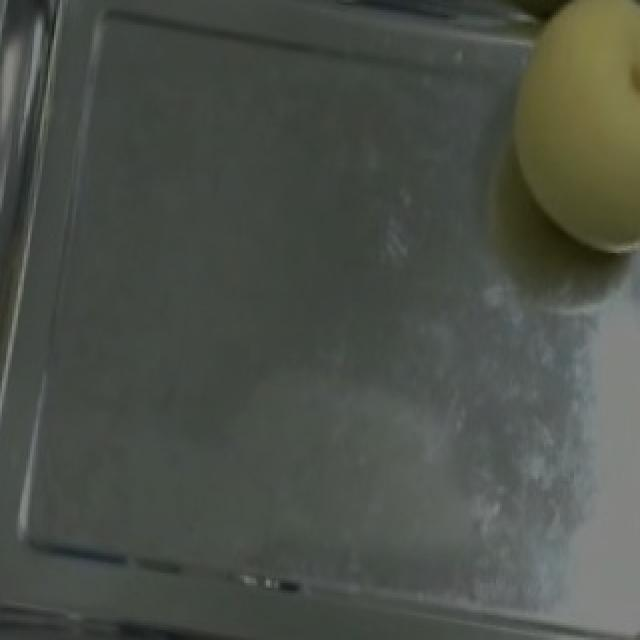Fruit: (480, 0, 640, 278)
